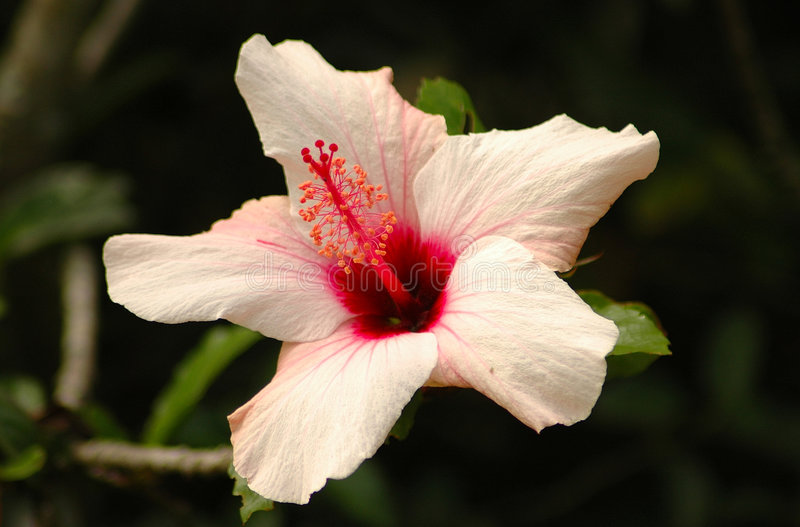Hibiscus: (95, 25, 665, 501)
